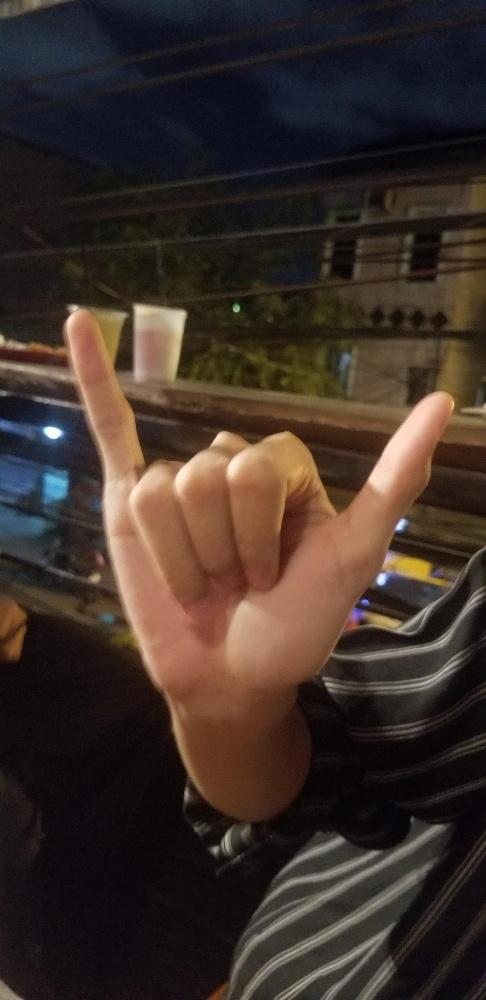y: (61, 308, 457, 689)
